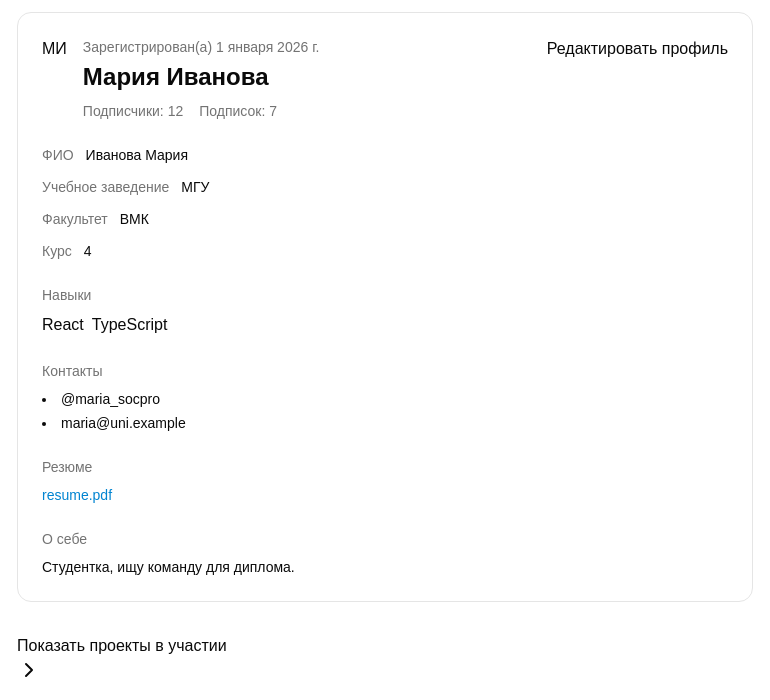
Test: UserPage (свой профиль) › раскрывает блок проектов в участии и запрашивает список у API
(page scrolled)
Click the button "Показать проекты в участии" at (122, 658), box x1=17 y1=634 x2=227 y2=682
(page scrolled)
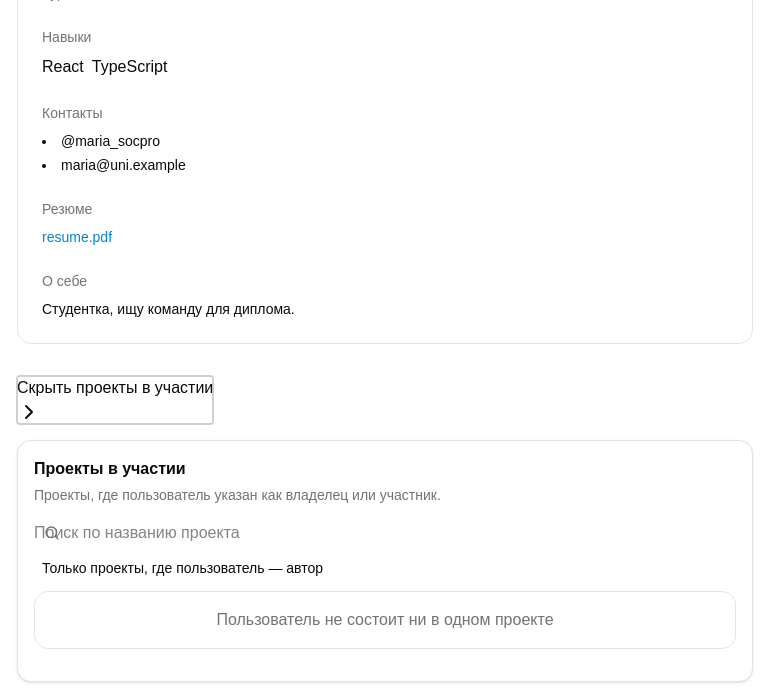
Result: the field named "Поиск проектов пользователя по названию" is shown at x1=34 y1=521 x2=241 y2=545
Result: the heading "Проекты в участии" is shown at x1=34 y1=460 x2=186 y2=477
Result: the button "Только проекты, где пользователь — автор" is shown at x1=42 y1=561 x2=323 y2=575
